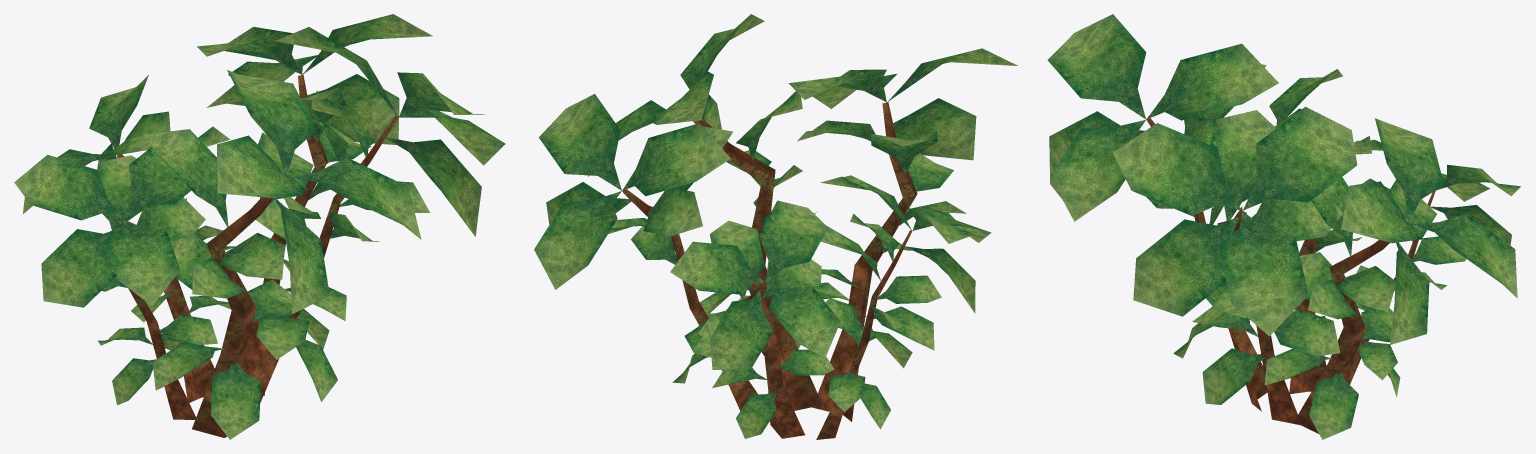
File: shrub_02.glb
3 views of the same model, side by side, from view 1: azimuth 30°, elevation 25°; view 2: azimuth 150°, elevation 25°; view 3: azimuth 270°, elevation 25° (orthographic). The views are drawn at different scales.
Parts seen in each view (by area): view 1: SHRUB_02-no-col; view 2: SHRUB_02-no-col; view 3: SHRUB_02-no-col.
Boxes of the visible parts, x1=… form: SHRUB_02-no-col: x1=14, y1=14, x2=505, y2=439; SHRUB_02-no-col: x1=534, y1=14, x2=1017, y2=439; SHRUB_02-no-col: x1=1047, y1=14, x2=1520, y2=439.
Bounding box in the file's own units: 4.11 × 3.34 × 4.
1 material, 1 textured.
